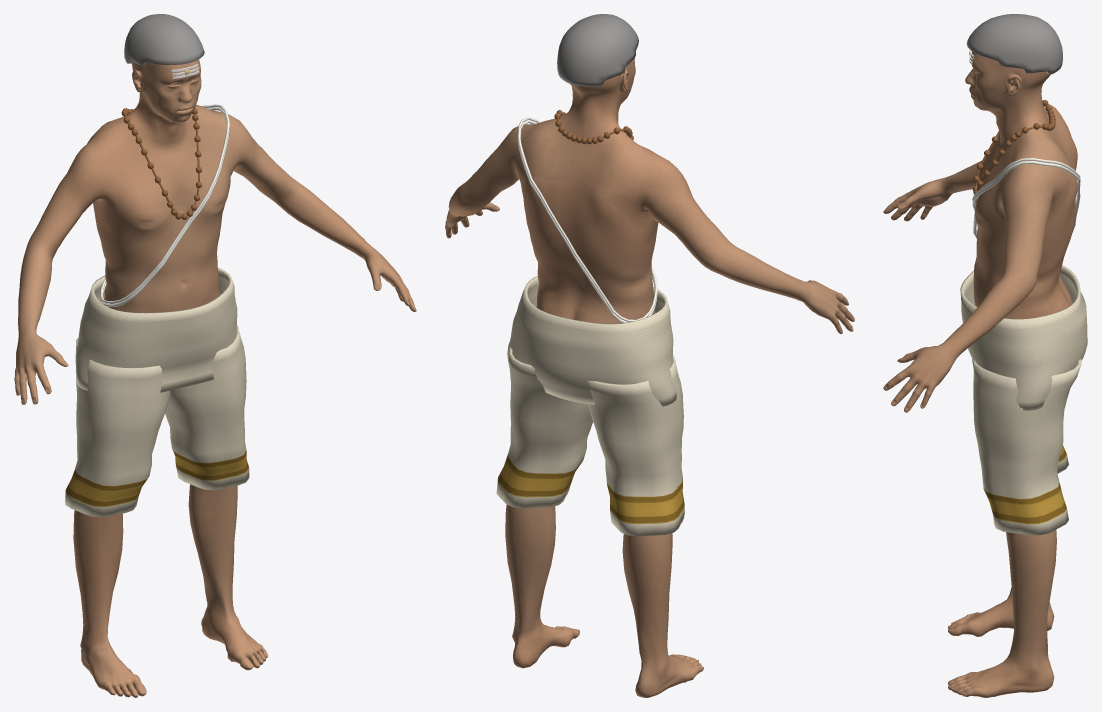
File: temple_priest.fbx
3 views of the same model, side by side, from view 1: azimuth 30°, elevation 25°; view 2: azimuth 150°, elevation 25°; view 3: azimuth 270°, elevation 25° (orthographic).
Visible parts, largest first — view 1: Mixamo_temple_priest; view 2: Mixamo_temple_priest; view 3: Mixamo_temple_priest.
Boxes of the visible parts, x1,y1,x2,y2 form: Mixamo_temple_priest: (14,14,416,697); Mixamo_temple_priest: (445,14,854,697); Mixamo_temple_priest: (883,14,1087,697).
Size of the model in its own units: 1.1 by 1.72 by 0.4944.
7 materials, 2 textured.
